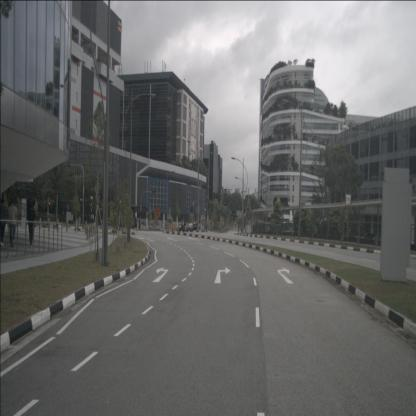human-pedestrian-adult: (25, 203, 38, 249), (7, 198, 18, 249), (0, 198, 8, 249), (134, 216, 138, 233), (138, 219, 141, 231)
vehicle-car: (186, 221, 199, 232)
vehicle-motorcycle: (178, 219, 186, 233)
